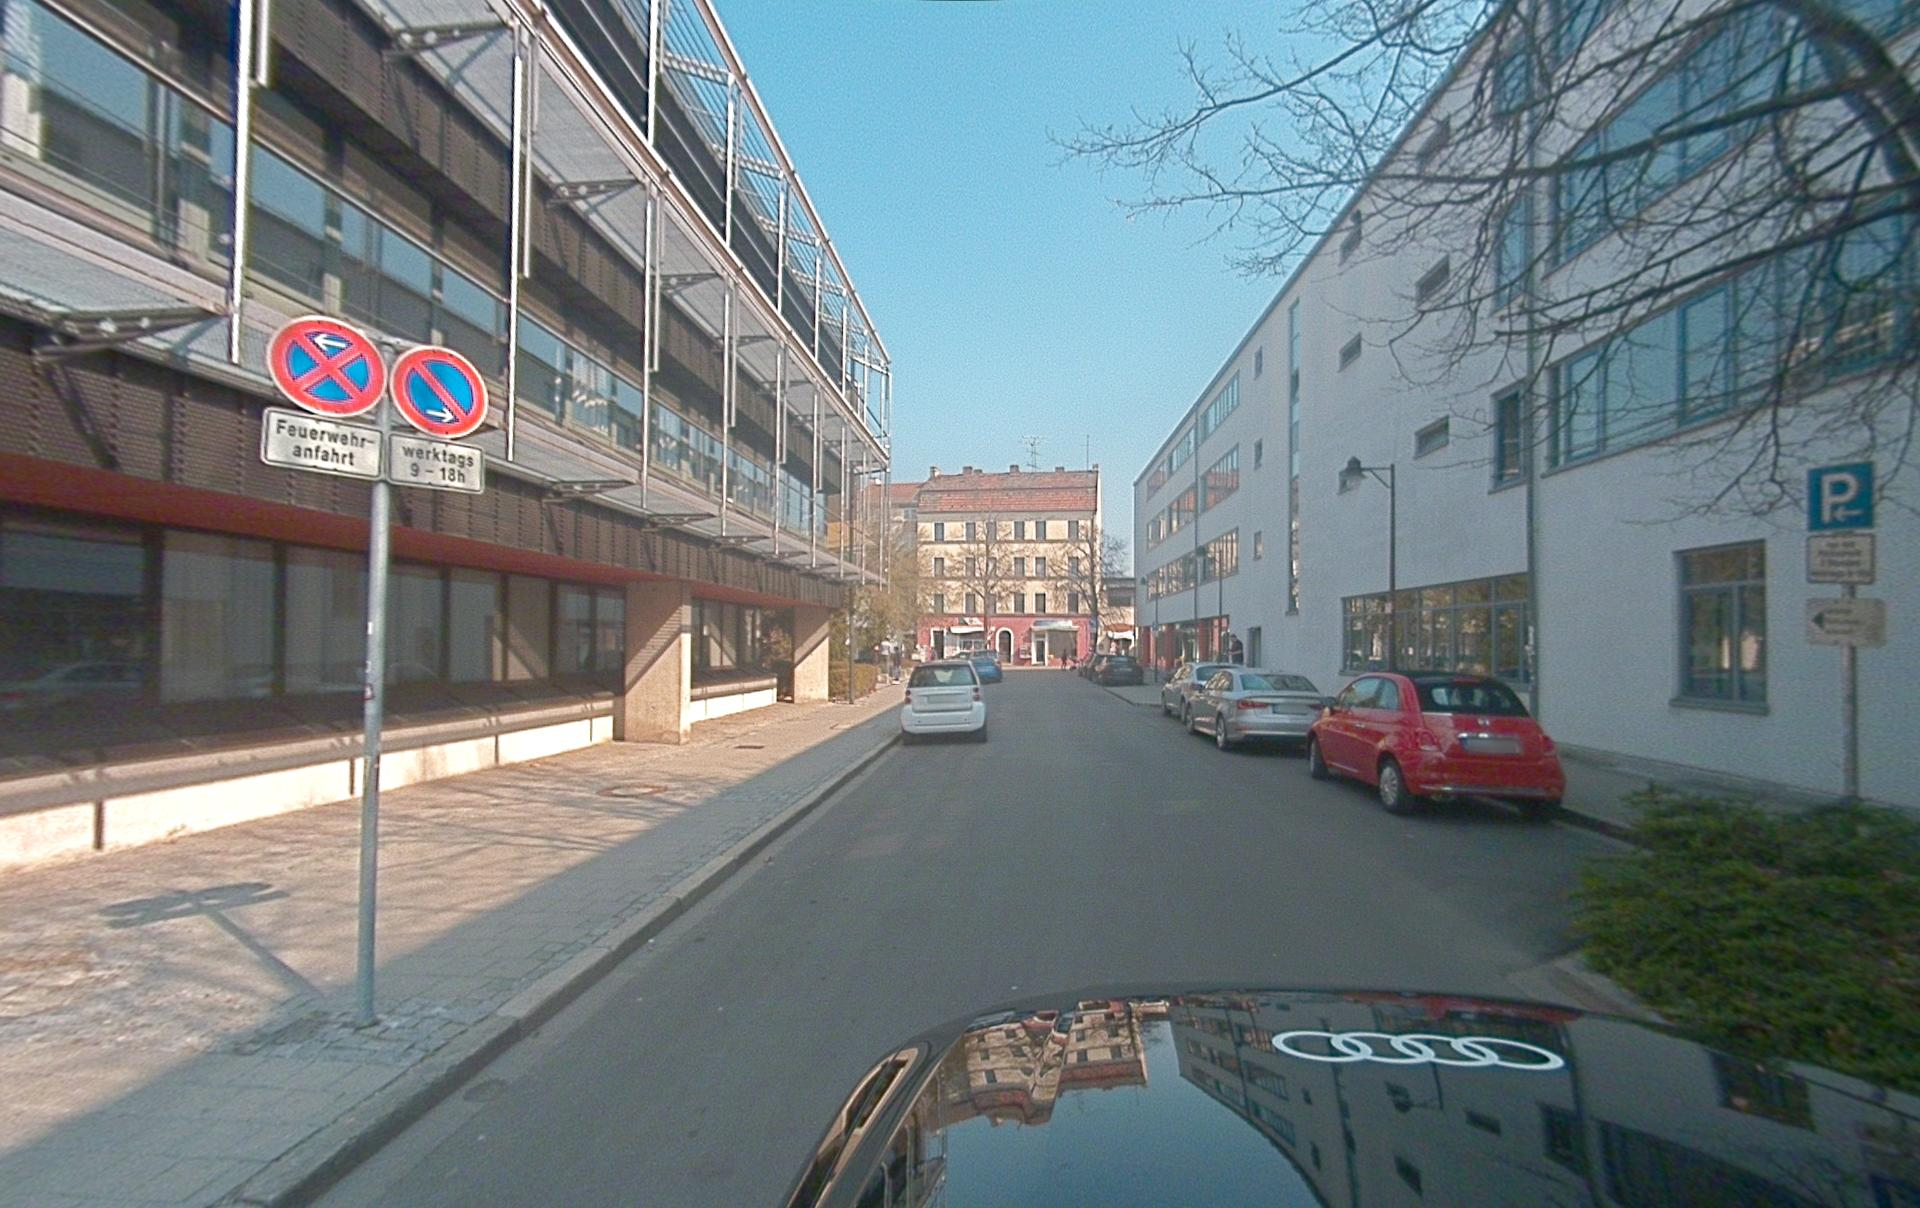car: (1306, 669, 1567, 817), (1184, 668, 1333, 750), (900, 658, 986, 739), (1162, 661, 1240, 721), (1080, 653, 1144, 686)
traffic sign: (260, 406, 384, 482), (388, 433, 484, 494)
